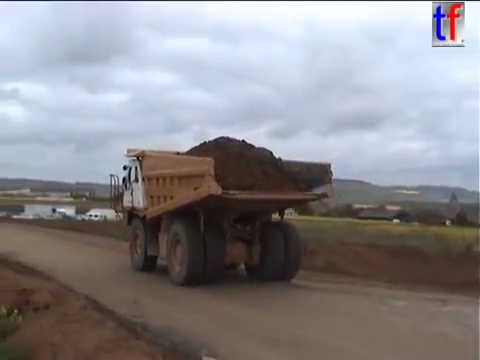truck: (107, 146, 335, 288)
